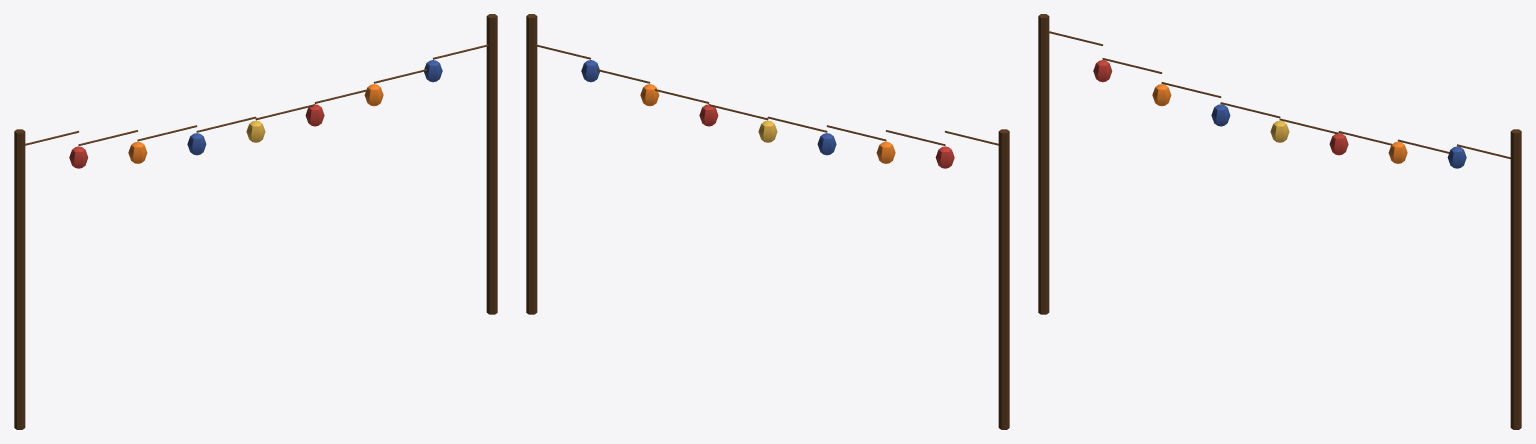
Rendered from PR_Decor_FenerDizisi.fbx.
3 views of the same model, side by side, from view 1: azimuth 30°, elevation 25°; view 2: azimuth 150°, elevation 25°; view 3: azimuth 330°, elevation 25° (orthographic).
Parts seen in each view (by area): view 1: PR_Decor_FenerDizisi; view 2: PR_Decor_FenerDizisi; view 3: PR_Decor_FenerDizisi.
Part boxes in pixels (bbox=[...]): PR_Decor_FenerDizisi: bbox=[14, 14, 497, 429]; PR_Decor_FenerDizisi: bbox=[526, 14, 1009, 429]; PR_Decor_FenerDizisi: bbox=[1038, 14, 1521, 429].
Size of the model in its own units: 4.07 by 2.4 by 0.14.
Materials: 1 (1 with a texture image).
